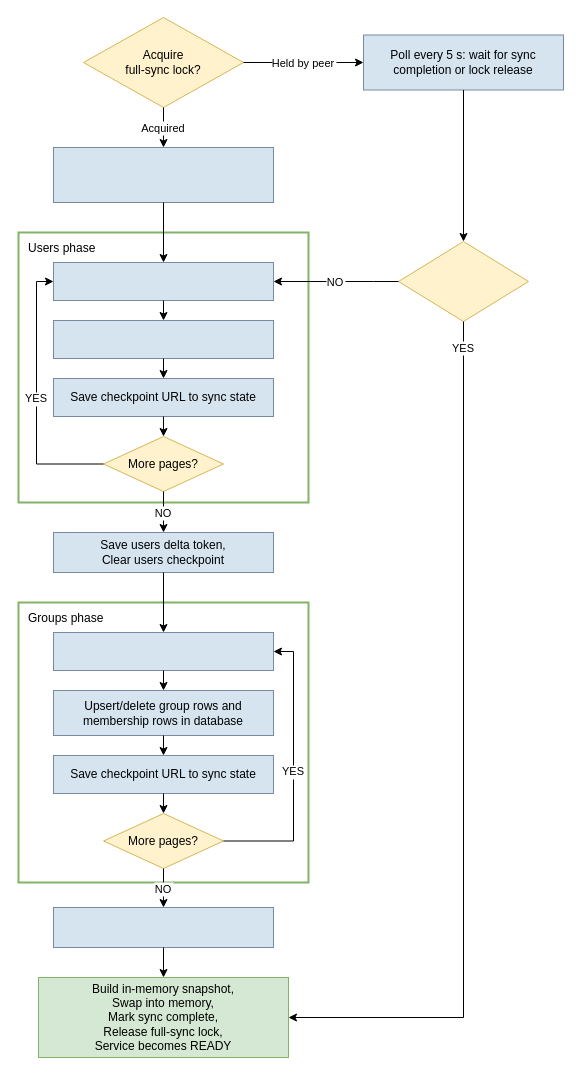
Some shapes in this 581 by 1075 pixel diagram are drawn without their labels. Here are the shapes that lost their labels. From the top down, the centre of each, then its label:
At [163,174]: "Truncate all tables, Reset sync state, Record cache flags".
At [163,281]: "Fetch next users delta page from Graph".
At [463,281]: "Snapshot complete?".
At [163,339]: "Upsert/delete user rows in database".
At [163,651]: "Fetch next groups delta page from Graph".
At [163,927]: "Save groups delta token, Clear groups checkpoint".
